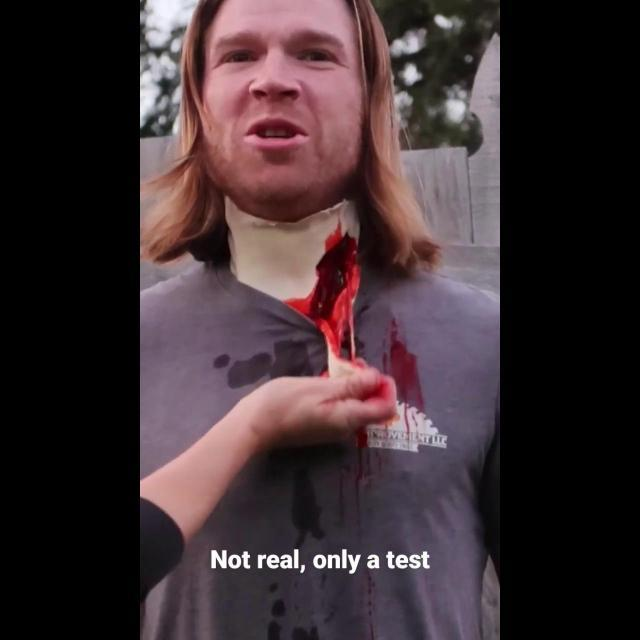blood: (285, 233, 360, 364), (382, 318, 424, 412), (355, 428, 367, 541), (366, 574, 378, 640)
